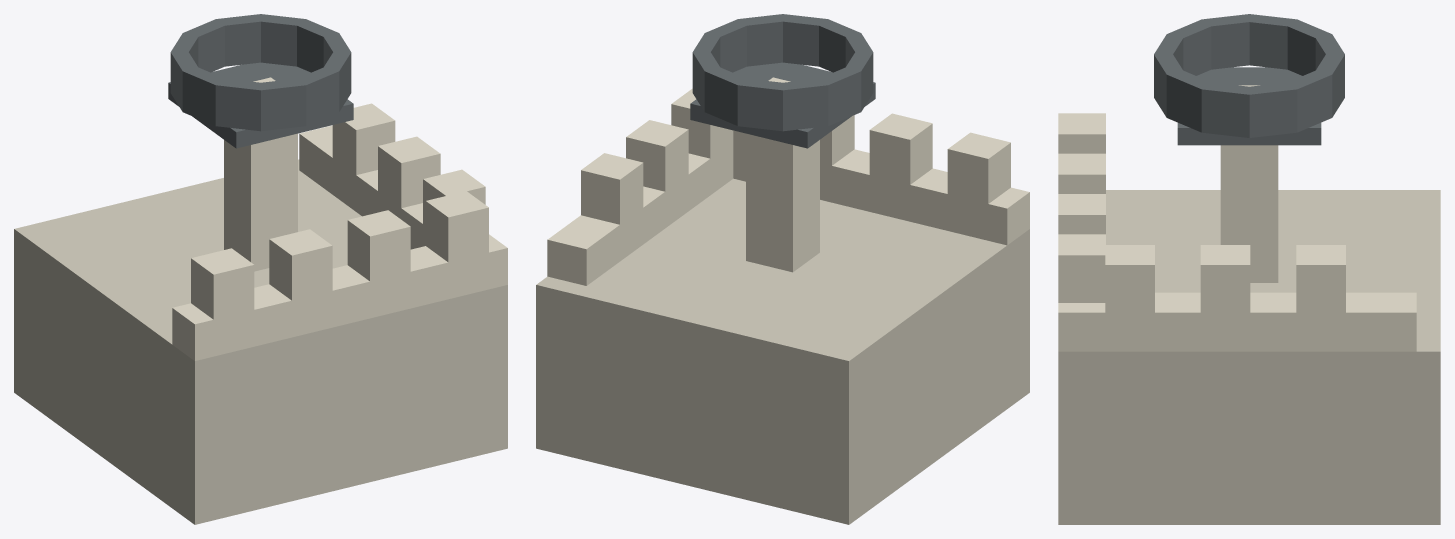
The model's file is beacon-tower.glb.
3 views of the same model, side by side, from view 1: azimuth 30°, elevation 25°; view 2: azimuth 150°, elevation 25°; view 3: azimuth 270°, elevation 25° (orthographic). The views are drawn at different scales.
Parts seen in each view (by area): view 1: beacon-tower; view 2: beacon-tower; view 3: beacon-tower.
Part boxes in pixels (x1,y1,x2,y2): beacon-tower: [14, 14, 507, 524]; beacon-tower: [536, 14, 1029, 524]; beacon-tower: [1058, 14, 1440, 524].
Size of the model in its own units: 4 by 4.5 by 4.
